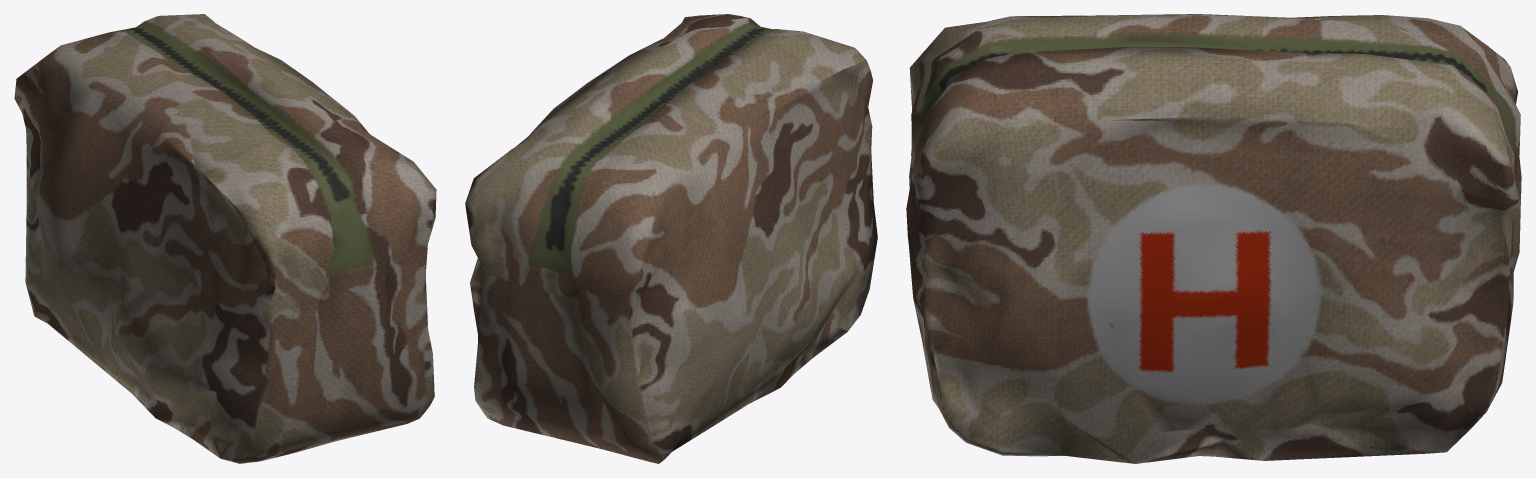
Rendered from pubg_mobile_first_aid_kit.glb.
3 views of the same model, side by side, from view 1: azimuth 30°, elevation 25°; view 2: azimuth 150°, elevation 25°; view 3: azimuth 270°, elevation 25° (orthographic). The views are drawn at different scales.
Visible parts, largest first — view 1: First Aid Kit; view 2: First Aid Kit; view 3: First Aid Kit.
Boxes of the visible parts, <box> form: First Aid Kit: <box>14,14,436,463</box>; First Aid Kit: <box>465,14,877,463</box>; First Aid Kit: <box>906,14,1521,463</box>.
Size of the model in its own units: 0.8197 by 1.01 by 1.51.
Materials: 1 (1 with a texture image).
